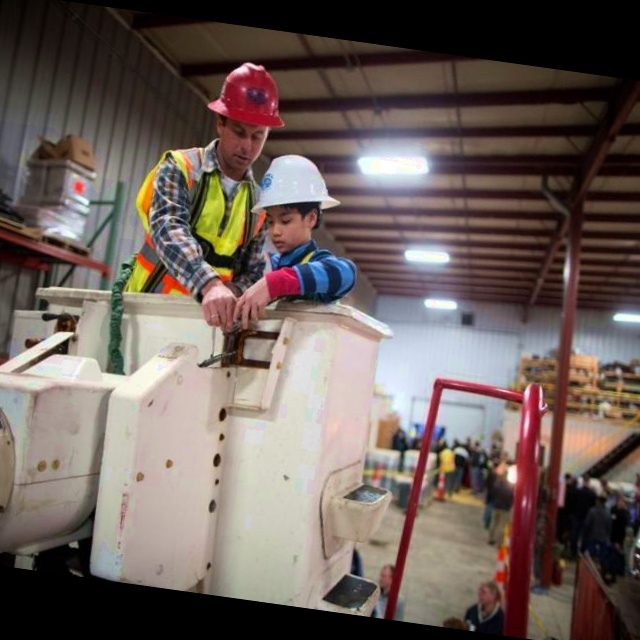Con_Casco: (204, 52, 290, 166), (251, 149, 345, 246)
